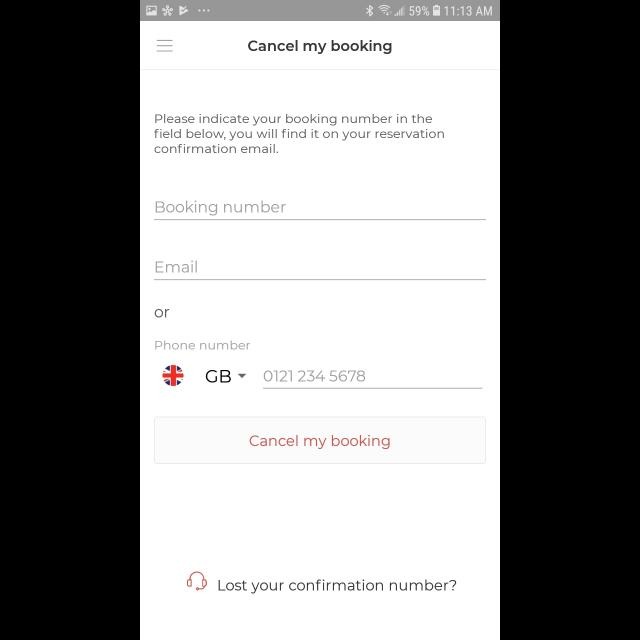icon: (156, 40, 174, 52), (238, 374, 246, 378)
image: (162, 365, 184, 387), (188, 572, 208, 590)
input: (154, 261, 486, 281), (154, 201, 486, 221), (264, 370, 482, 390)
text: (154, 114, 444, 154), (219, 578, 457, 594), (248, 40, 392, 56), (156, 200, 286, 216), (264, 371, 366, 382), (156, 340, 250, 350), (156, 261, 198, 273), (206, 370, 232, 382), (154, 309, 170, 319)
textbutton: (154, 416, 486, 464)
uppertaskbar: (140, 1, 500, 21)
